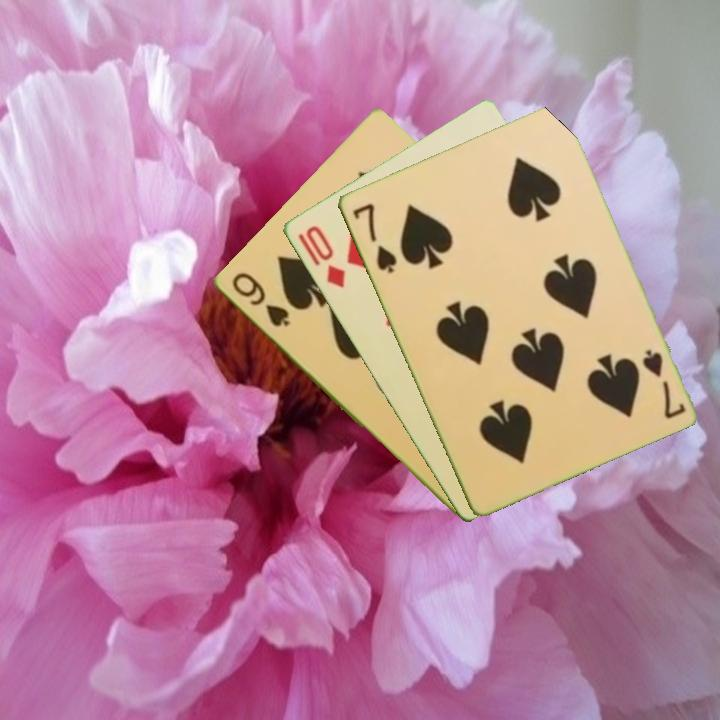10d: (301, 221, 348, 291)
7s: (348, 199, 400, 276), (638, 345, 688, 422)
9s: (228, 268, 292, 330)
